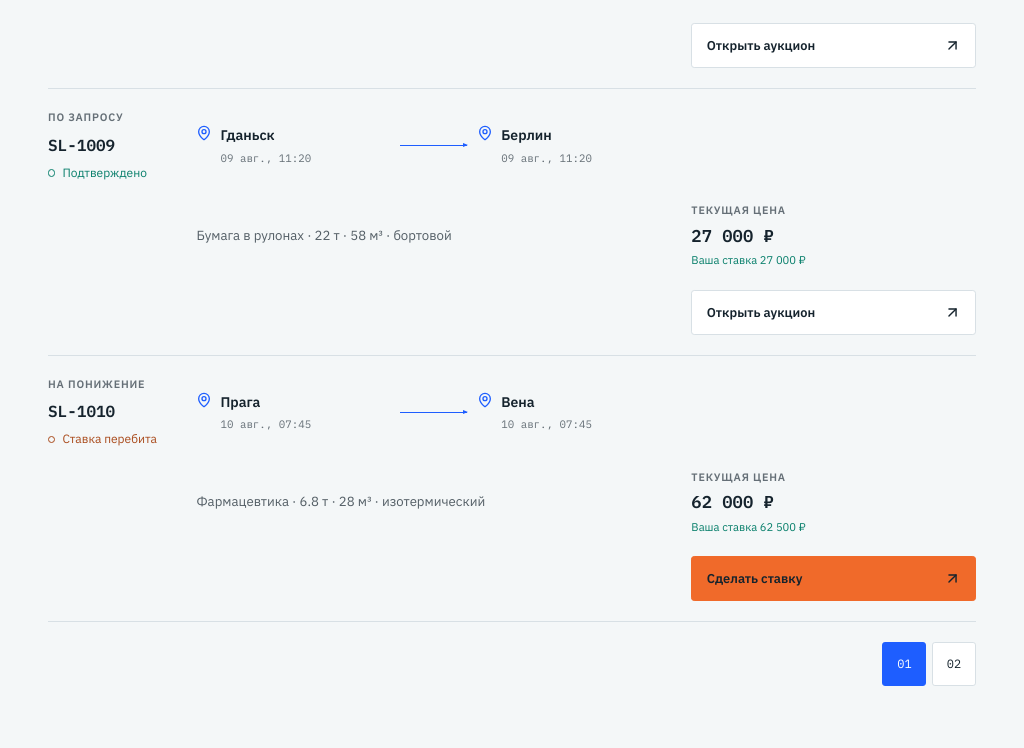
auction list feature › renders both default pages through semantic pagination
The image size is (1024, 748).
(page scrolled)
Click the link named "Страница 2" at {"x": 954, "y": 664}, box [932,642,976,686]
(page scrolled)
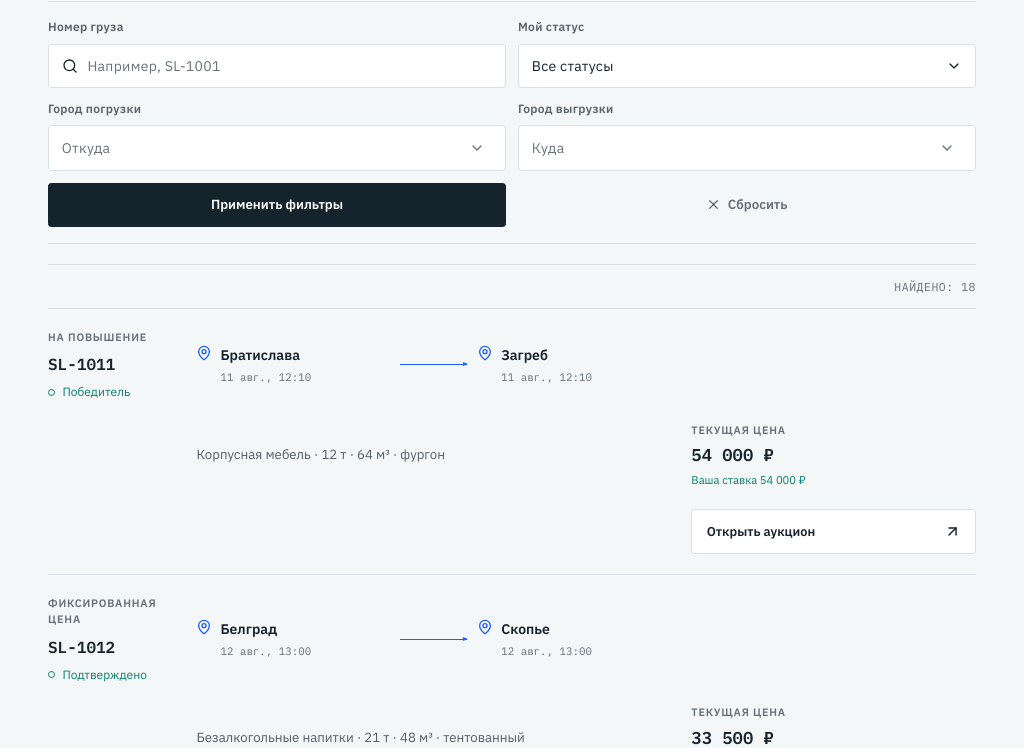
Expected: the text "SL-1011" is shown, [48,354,115,374]
